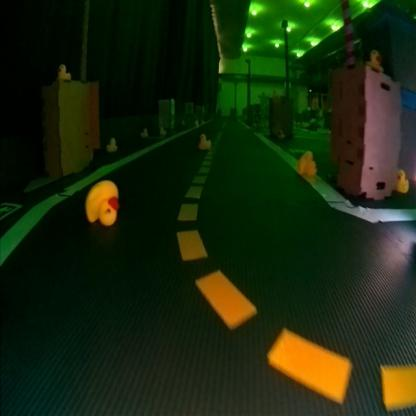Duckie: (88, 180, 120, 226), (298, 150, 318, 175), (396, 168, 411, 192), (367, 50, 384, 68), (200, 132, 212, 148), (58, 64, 70, 80), (107, 137, 118, 151)
